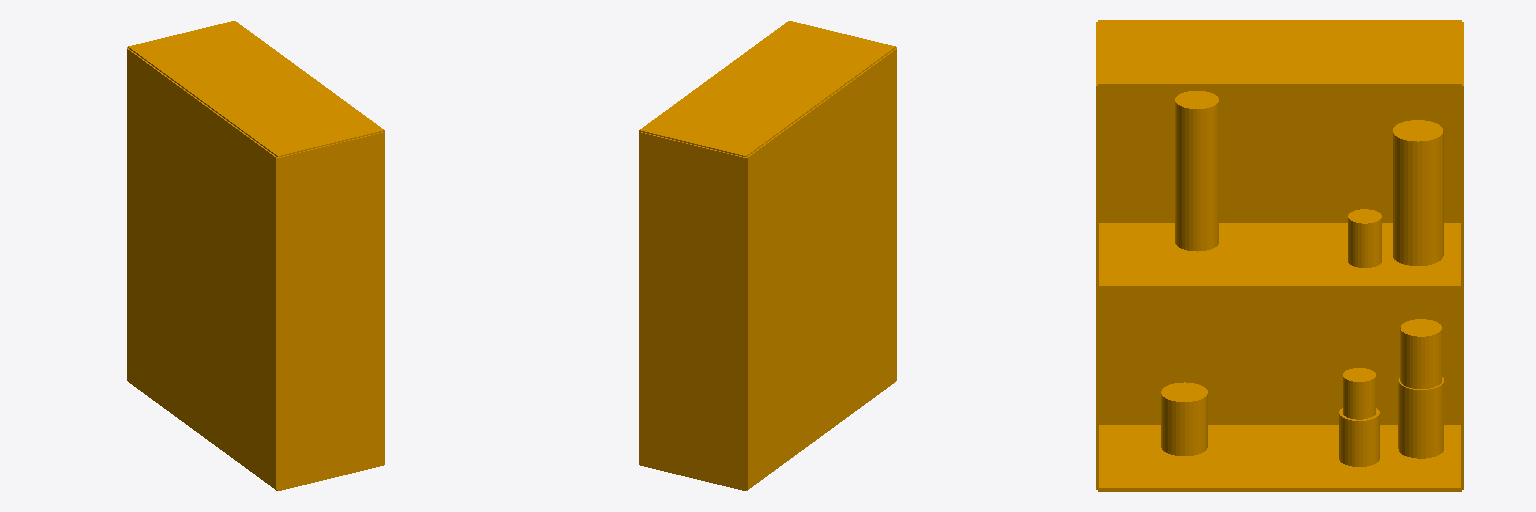
URDF robot description (syn_can_cabinet_1328):
<?xml version="1.0" ?>
<robot name="syn_can_cabinet_1328">
    <link concave="yes" name="base_link">
        <inertial>
            <origin rpy="0 0 0" xyz="0 0 0"/>
            <mass value="0.0"/>
            <inertia ixx="1e-08" ixy="0" ixz="0" iyy="1e-08" iyz="0" izz="1e-08"/>
        </inertial>
        <visual>
            <origin xyz="0 0 0" rpy="0 0 0" />
            <geometry>
                <mesh filename="syn_can_cabinet_1328.obj" scale="1.000000 1.000000 1.000000"/>
            </geometry>         
        </visual>

        <collision concave="yes">
            <origin xyz="0 0 0" rpy="0 0 0"/>
            <geometry>
                <mesh filename="syn_can_cabinet_1328.obj" scale="1.000000 1.000000 1.000000"/>
            </geometry>
        </collision>
    </link>
</robot>
    

--- Facts derived from the render (not from the file) ---
The picture shows the robot from 3 angles, left to right: view 1: azimuth 30°, elevation 25°; view 2: azimuth 150°, elevation 25°; view 3: azimuth 270°, elevation 25°; orthographic projection.
Robot: syn_can_cabinet_1328 — 1 links, 0 joints (none); root link base_link; default pose: all joints at 0.
Visible links, largest first — view 1: base_link; view 2: base_link; view 3: base_link.
Boxes of the visible links, left/top/right/bottom form: base_link: left=127, top=21, right=384, bottom=490; base_link: left=639, top=21, right=896, bottom=490; base_link: left=1096, top=20, right=1463, bottom=491.
Bounding box of the posed robot: 0.1916 × 0.4633 × 0.5673 m (x, y, z).
1 mesh visuals loaded from 1 distinct referenced files (1 OBJ).
